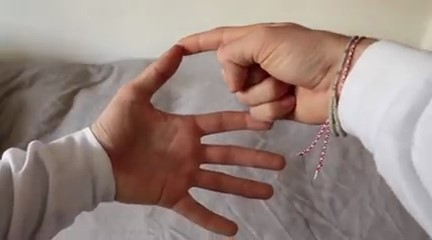A: (99, 18, 342, 240)
